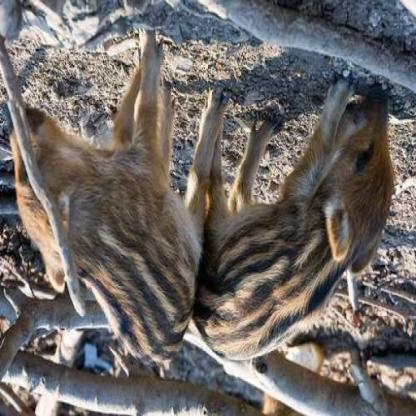boar: (189, 69, 405, 378), (0, 71, 201, 374)
